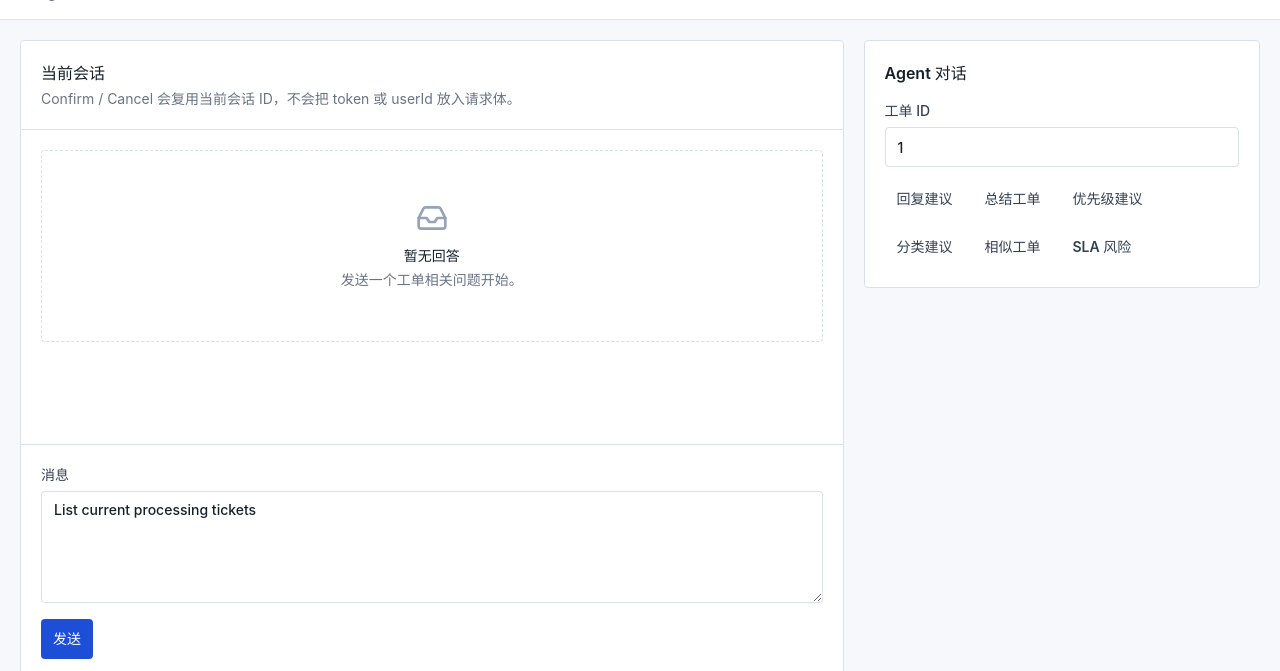
Scenario: AiPage › renders reply suggestion JSON card without legacy next_steps
(page scrolled)
Click the button "发送": (67, 639) x1=41 y1=619 x2=93 y2=659
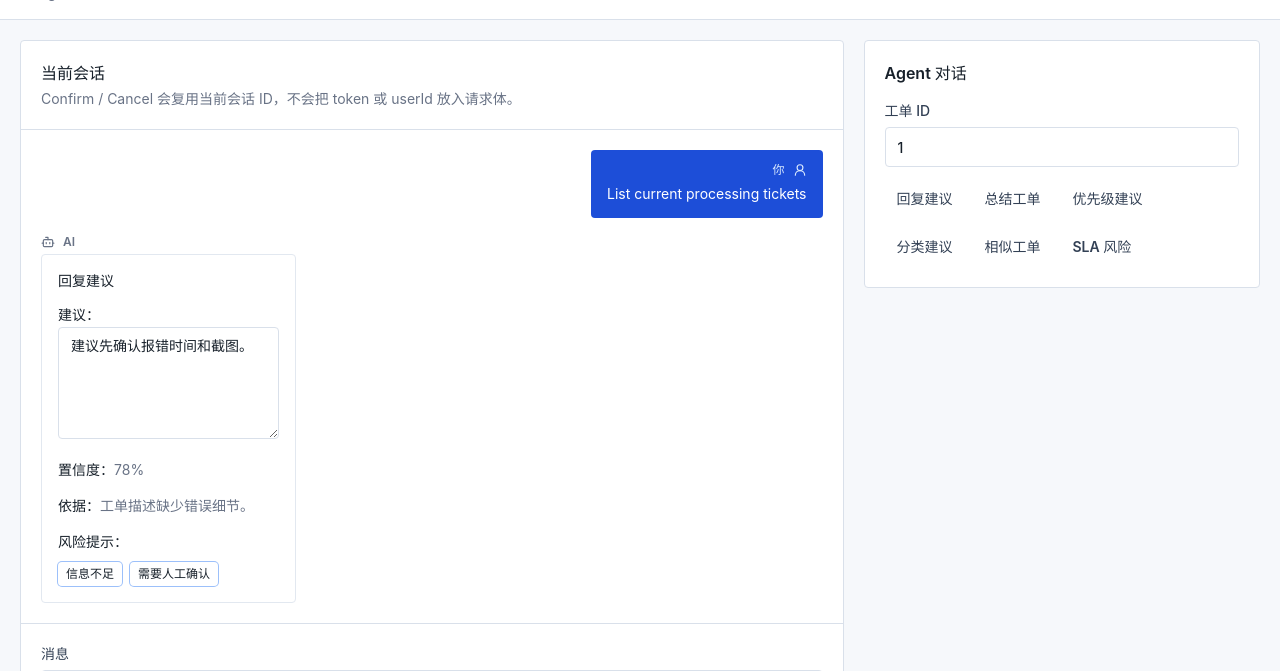
Check: the text "回复建议" is shown, box x1=58 y1=272 x2=114 y2=289
Check: the text box "建议先确认报错时间和截图。" is shown, box x1=58 y1=327 x2=279 y2=439
Check: the text "信息不足" is shown, box x1=58 y1=562 x2=122 y2=586
